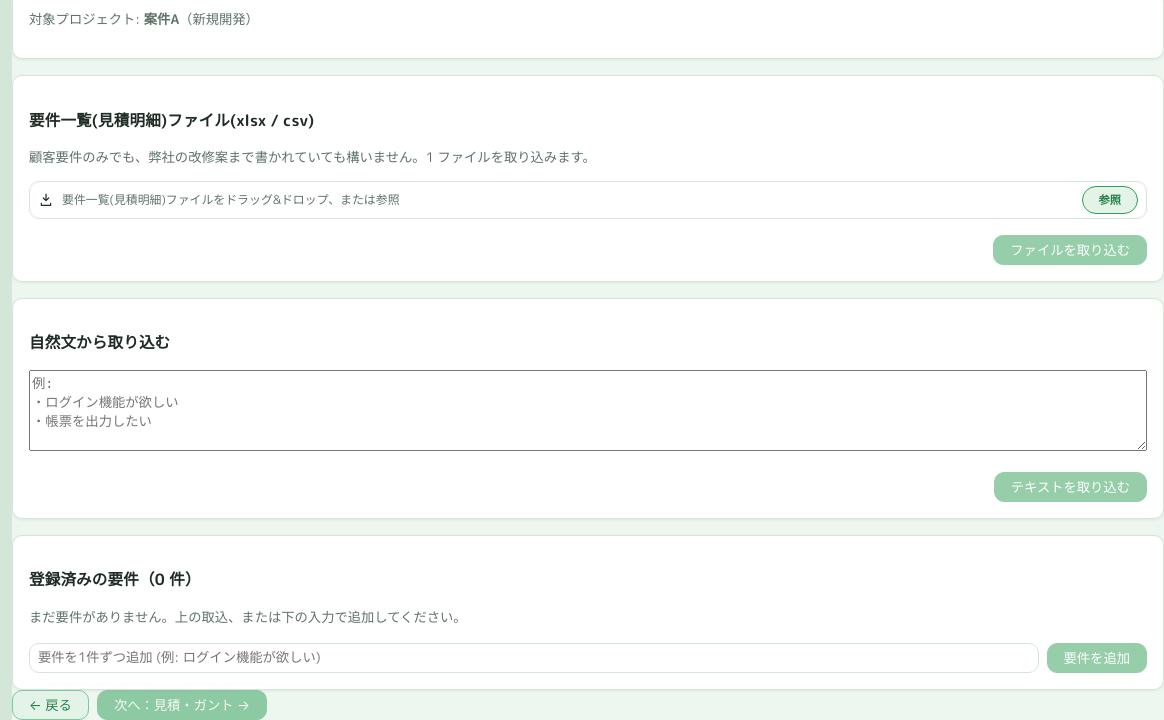
Scenario: RequirementsPage (US-038) › 要件を追加すると一覧に反映される
(page scrolled)
Type "帳票出力が欲しい" into the field named "要件内容" at (534,658), box x1=29 y1=643 x2=1038 y2=673
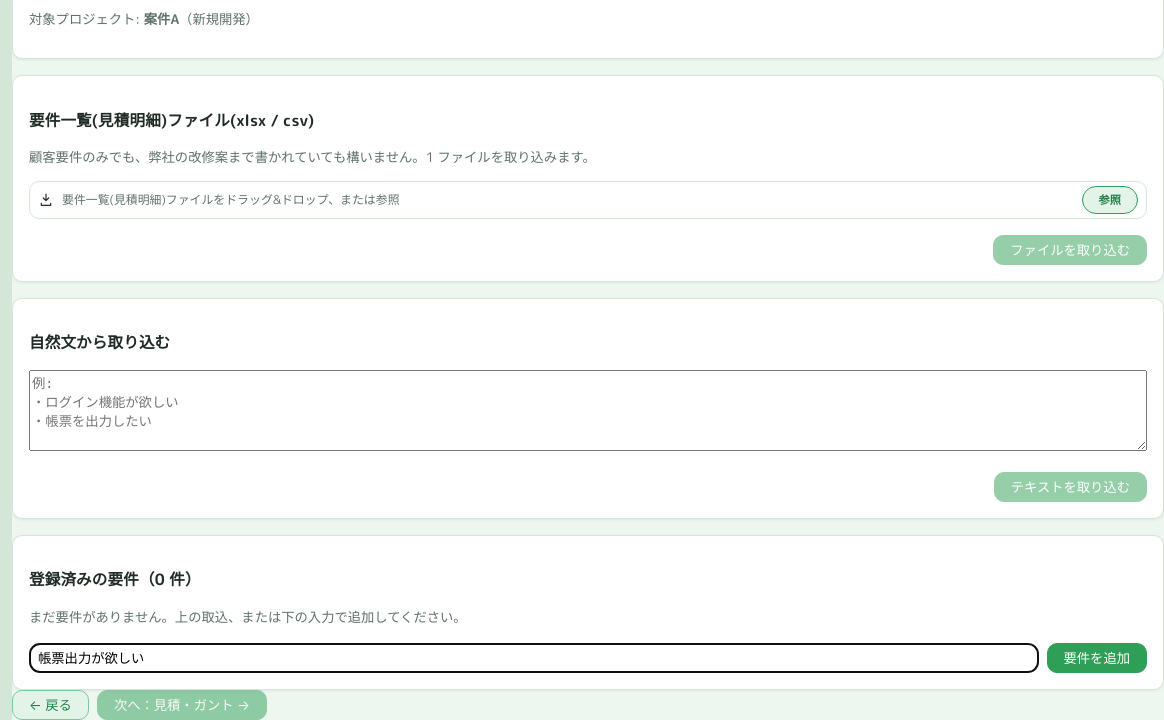
Click the button "要件を追加" at (1097,658), box x1=1046 y1=643 x2=1147 y2=673
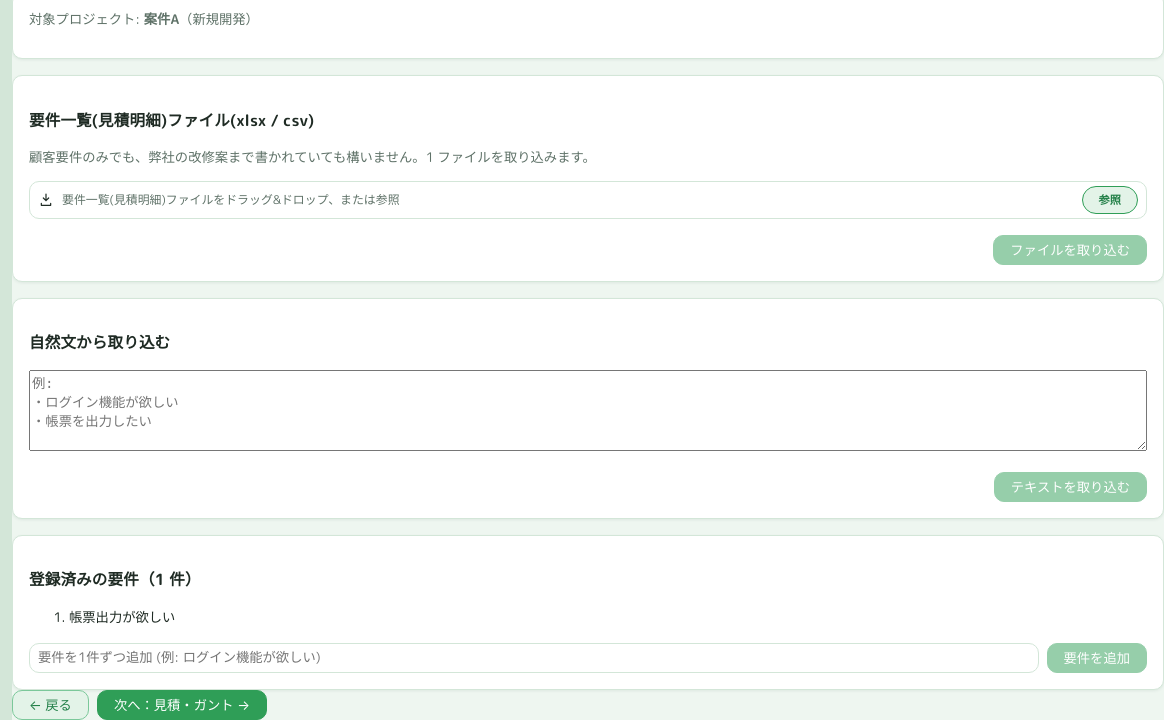
Expected: the list item "帳票出力が欲しい" is shown, x1=69 y1=608 x2=175 y2=626
